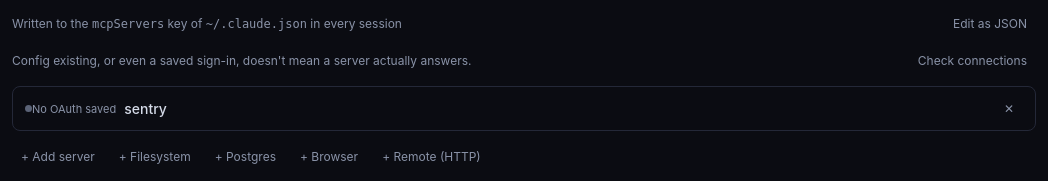
checking MCP connections for real › shows the real result once the check resolves
The image size is (1048, 181).
Click the button "Check connections". click: (972, 60)
box: [909,49,1036,72]
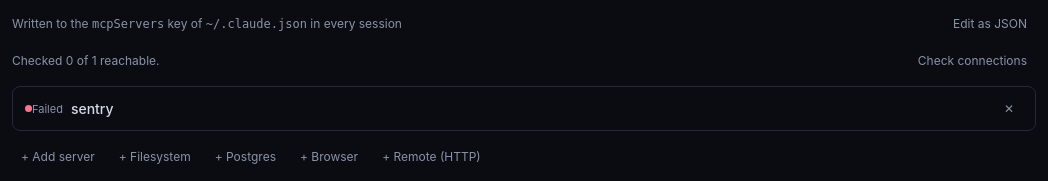
Expected: the element titled "Failed to connect — timeout" is shown, [32,102,63,116]
